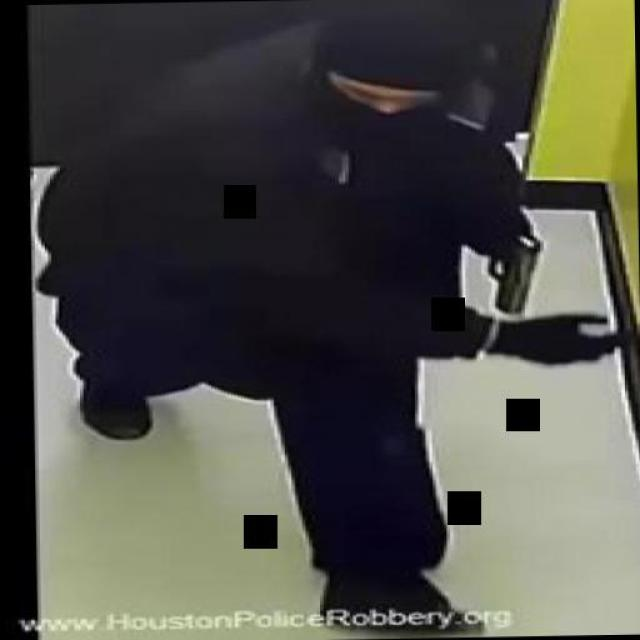gun: (461, 225, 541, 314)
